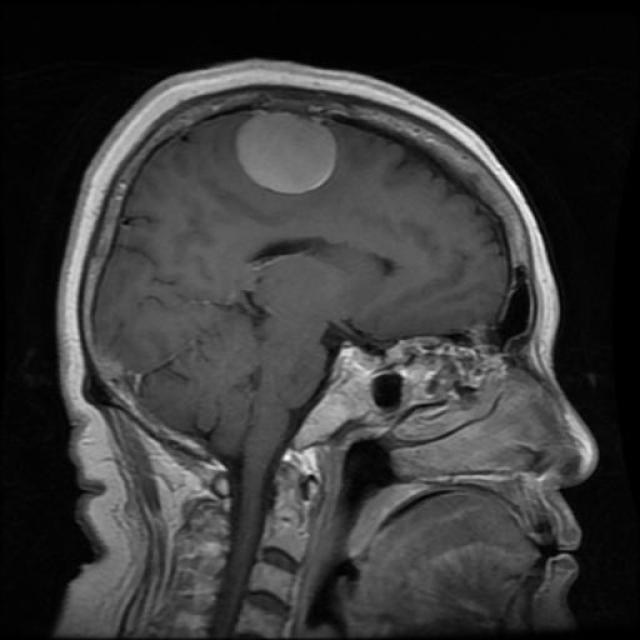meningioma: (235, 114, 334, 196)
